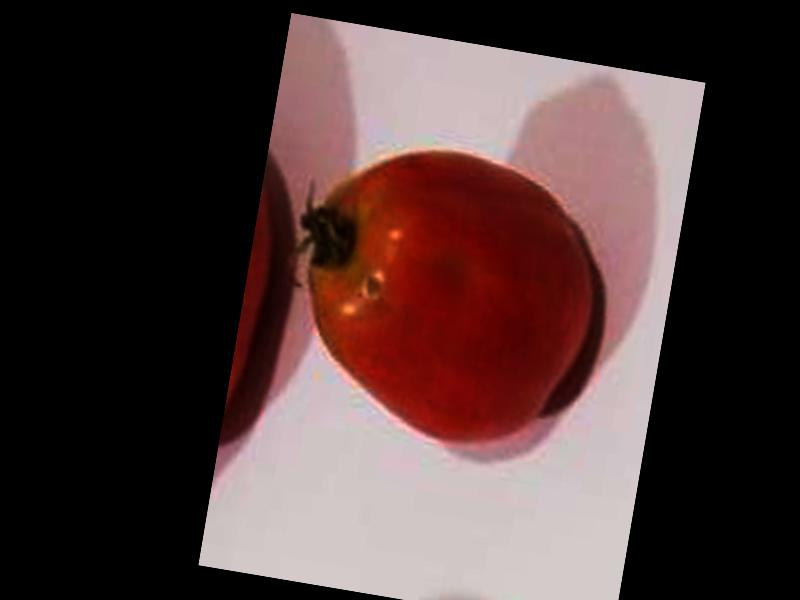Tomato: (281, 133, 607, 459)
